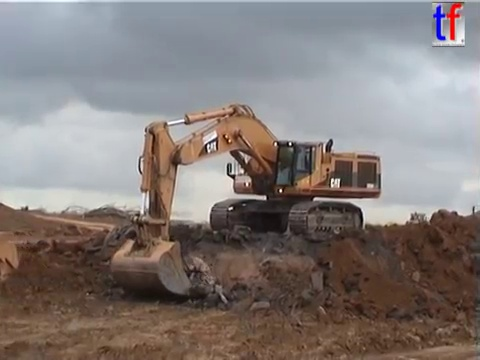excavator: (107, 100, 384, 301)
motor grader: (405, 210, 430, 230)
truck: (1, 234, 22, 288), (470, 202, 480, 221)
